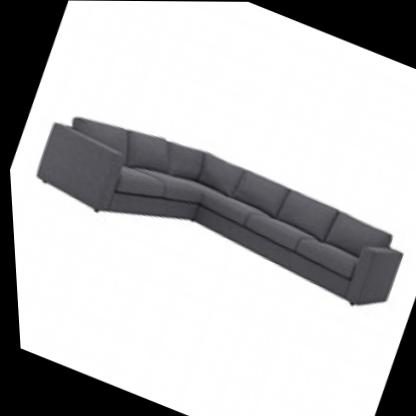Sofa: (14, 65, 416, 335)
